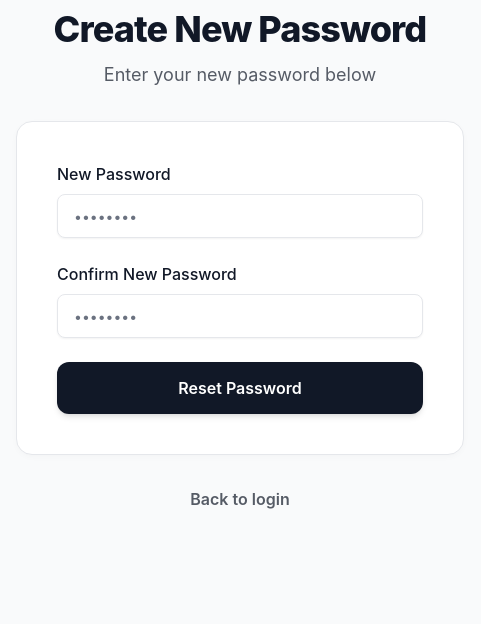
Test: ResetPassword Component › handles successful reset password
The image size is (481, 624).
Step 1. Type "password123" into the password field with placeholder "••••••••" → [240, 216], box 57,194 -> 423,238
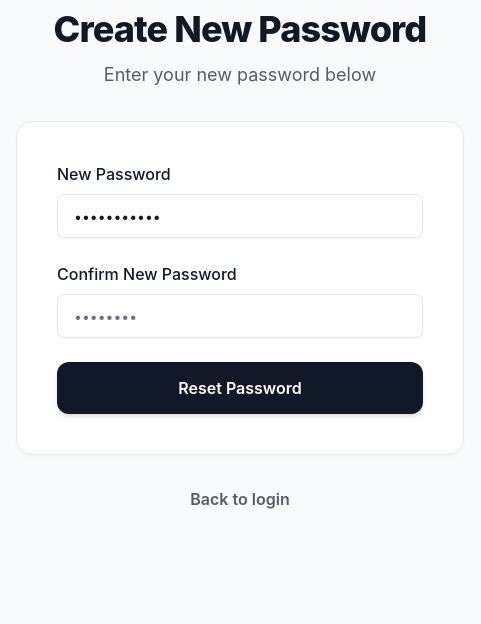
Step 2. Type "password123" into the password field with placeholder "••••••••" → [240, 316], box 57,294 -> 423,338
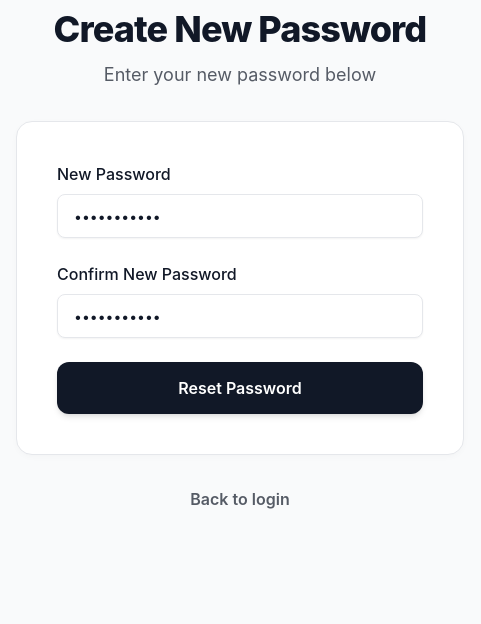
Step 3. Click the button "Reset Password" → [240, 388], box 57,362 -> 423,414
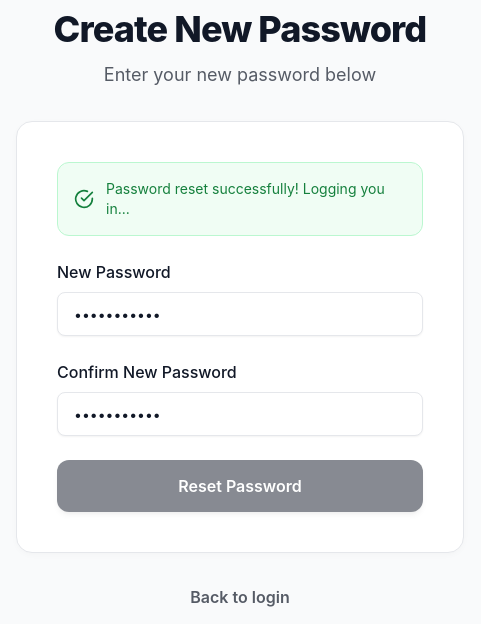
Expected: the text "Password reset successfully! Logging you in..." is shown, 106,179 -> 406,219
